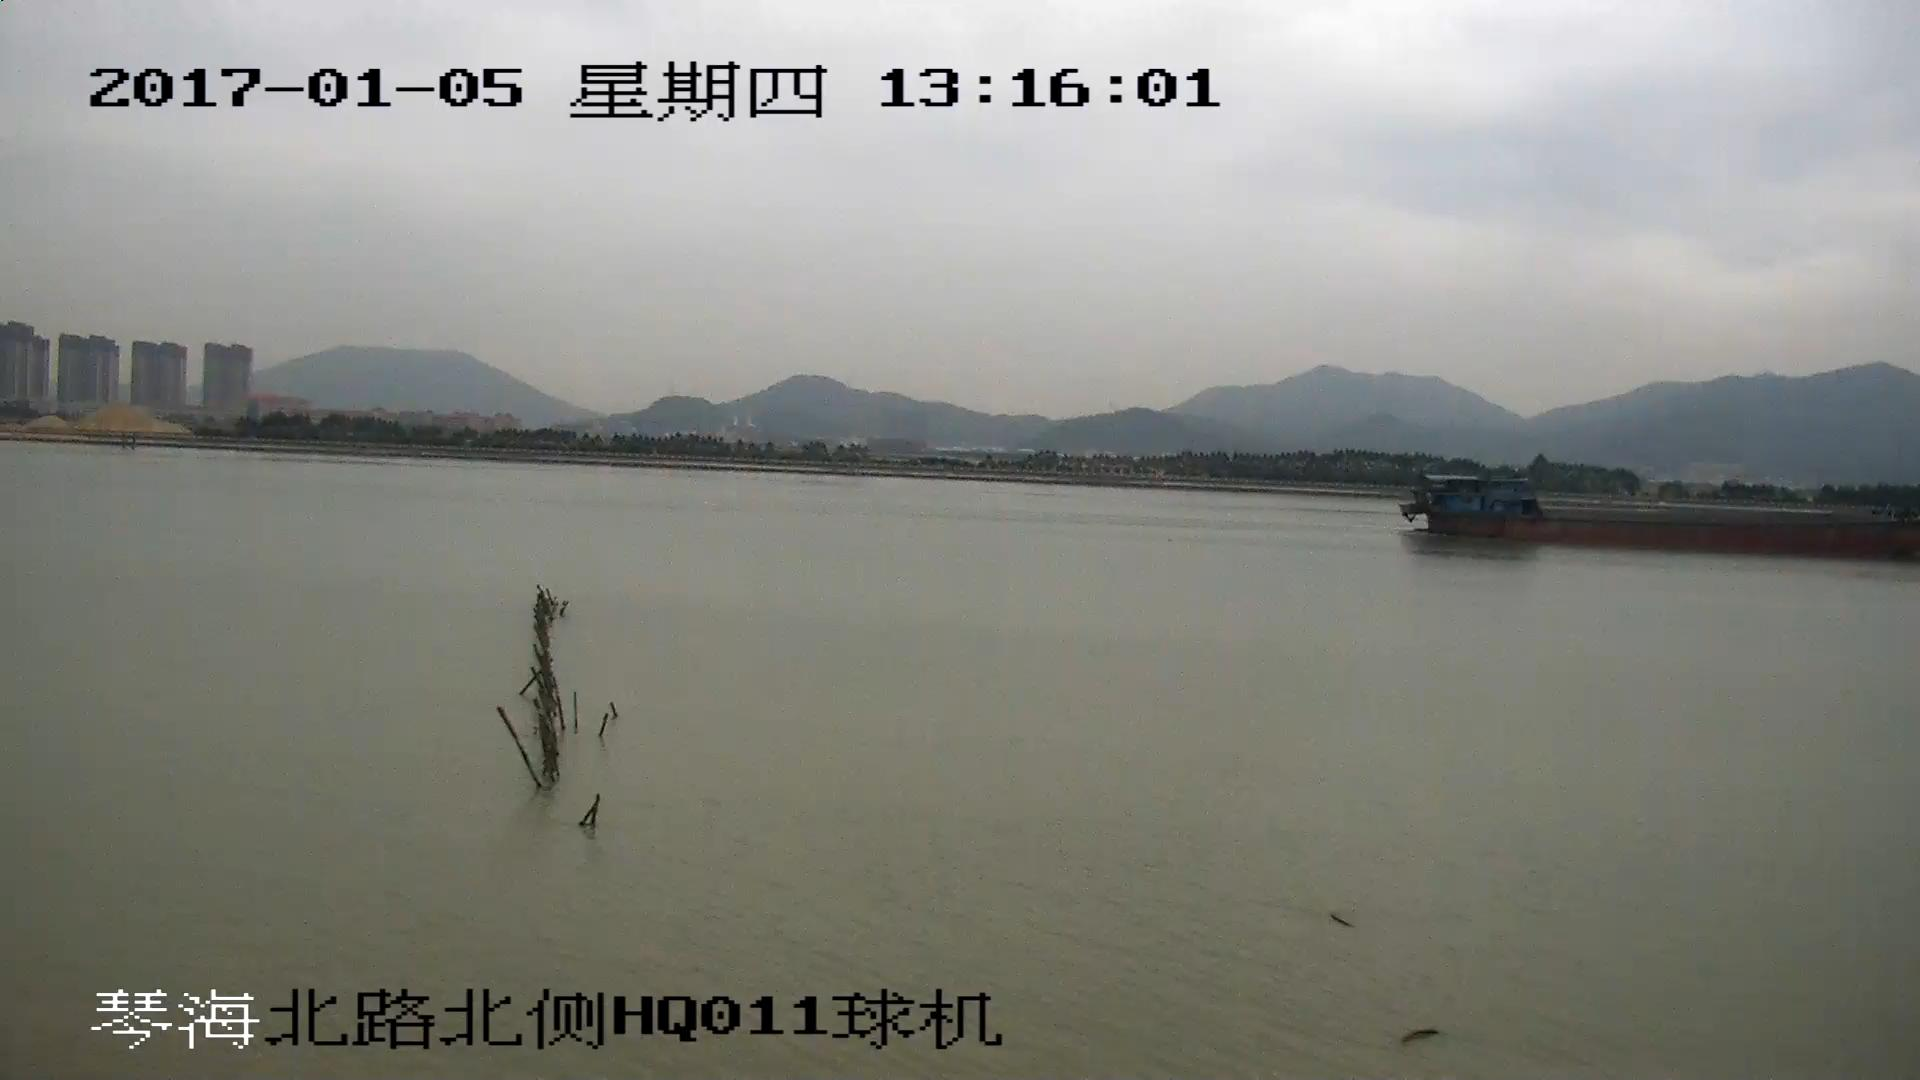bulk cargo carrier: (1401, 471, 1920, 560)
